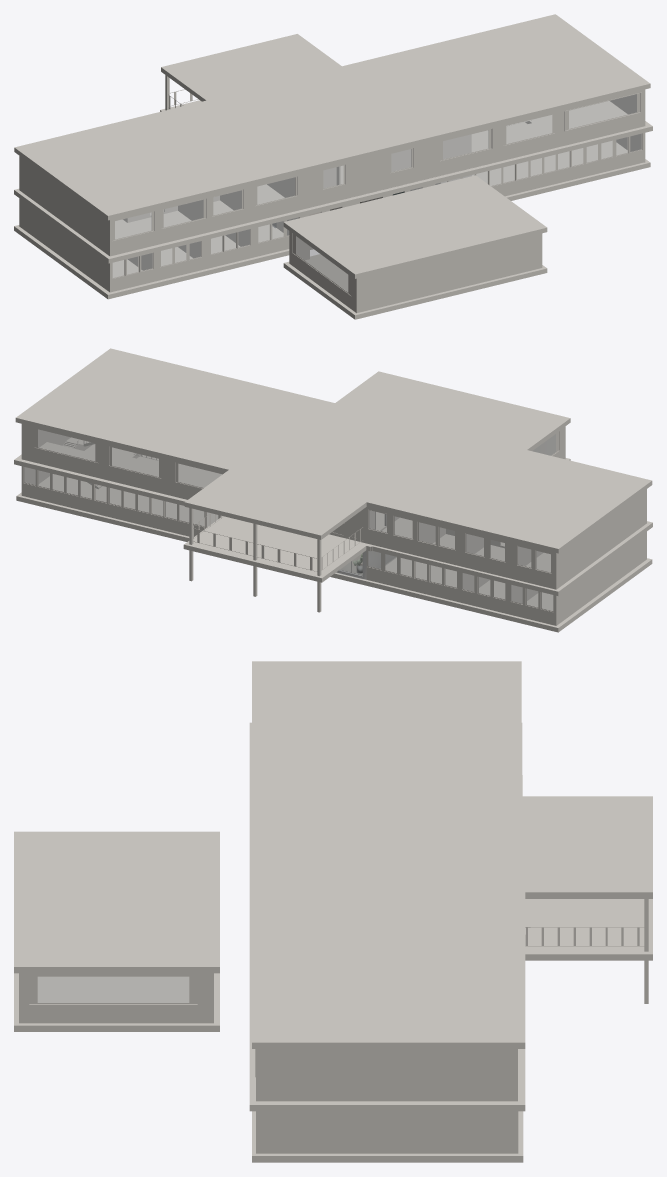
Rendered from reception_walk.glb.
3 renders of one model, top to bottom at view 1: azimuth 30°, elevation 25°; view 2: azimuth 150°, elevation 25°; view 3: azimuth 270°, elevation 25°, orthographic. The views are drawn at different scales.
Visible parts, largest first — view 1: BEYOND_L2_SLAB, BEYOND_L1_WALL, BEYOND_L0_WALL, BEYOND_L0_SLAB, UPPER_in_zone, BEYOND_L1_SLAB, BEYOND_L1_GLASS, BEYOND_L0_GLASS, BEYOND_L1_FRAME, BEYOND_L0_FRAME, BEYOND_L1_OTHER, BEYOND_L0_OTHER; view 2: BEYOND_L2_SLAB, BEYOND_L1_WALL, BEYOND_L1_SLAB, BEYOND_L0_WALL, UPPER_in_zone, BEYOND_L0_SLAB, BEYOND_L1_GLASS, BEYOND_L0_GLASS, BEYOND_L0_FRAME, BEYOND_L1_FRAME, BEYOND_L1_OTHER, BEYOND_L1_STAIR (+4 smaller); view 3: BEYOND_L2_SLAB, UPPER_in_zone, BEYOND_L0_WALL, BEYOND_L1_WALL, BEYOND_L1_SLAB, BEYOND_L0_SLAB, BEYOND_L0_GLASS, BEYOND_L0_FRAME.
Boxes of the visible parts, bbox=[...] form: BEYOND_L2_SLAB: bbox=[14, 14, 650, 278]; BEYOND_L1_WALL: bbox=[19, 89, 645, 256]; BEYOND_L0_WALL: bbox=[19, 133, 645, 313]; BEYOND_L0_SLAB: bbox=[14, 122, 650, 319]; UPPER_in_zone: bbox=[209, 68, 408, 191]; BEYOND_L1_SLAB: bbox=[14, 100, 652, 263]; BEYOND_L1_GLASS: bbox=[115, 94, 636, 238]; BEYOND_L0_GLASS: bbox=[113, 134, 641, 291]; BEYOND_L1_FRAME: bbox=[113, 93, 640, 240]; BEYOND_L0_FRAME: bbox=[112, 134, 642, 295]; BEYOND_L1_OTHER: bbox=[112, 89, 641, 240]; BEYOND_L0_OTHER: bbox=[124, 133, 642, 295]; BEYOND_L2_SLAB: bbox=[15, 348, 652, 553]; BEYOND_L1_WALL: bbox=[21, 424, 646, 589]; BEYOND_L1_SLAB: bbox=[14, 442, 652, 596]; BEYOND_L0_WALL: bbox=[21, 426, 646, 625]; UPPER_in_zone: bbox=[232, 420, 431, 543]; BEYOND_L0_SLAB: bbox=[16, 444, 652, 632]; BEYOND_L1_GLASS: bbox=[38, 429, 550, 572]; BEYOND_L0_GLASS: bbox=[24, 434, 555, 610]; BEYOND_L0_FRAME: bbox=[23, 431, 558, 611]; BEYOND_L1_FRAME: bbox=[34, 428, 551, 573]; BEYOND_L1_OTHER: bbox=[34, 428, 551, 573]; BEYOND_L1_STAIR: bbox=[136, 454, 500, 570]; BEYOND_L2_SLAB: bbox=[14, 661, 652, 1048]; UPPER_in_zone: bbox=[328, 797, 519, 891]; BEYOND_L0_WALL: bbox=[19, 973, 518, 1153]; BEYOND_L1_WALL: bbox=[256, 1049, 517, 1101]; BEYOND_L1_SLAB: bbox=[249, 722, 652, 1111]; BEYOND_L0_SLAB: bbox=[14, 775, 523, 1162]; BEYOND_L0_GLASS: bbox=[38, 977, 188, 1002]; BEYOND_L0_FRAME: bbox=[29, 976, 197, 1003].
Size of the model in its own units: 38.22 by 5.6 by 27.
16 materials, 12 textured.
